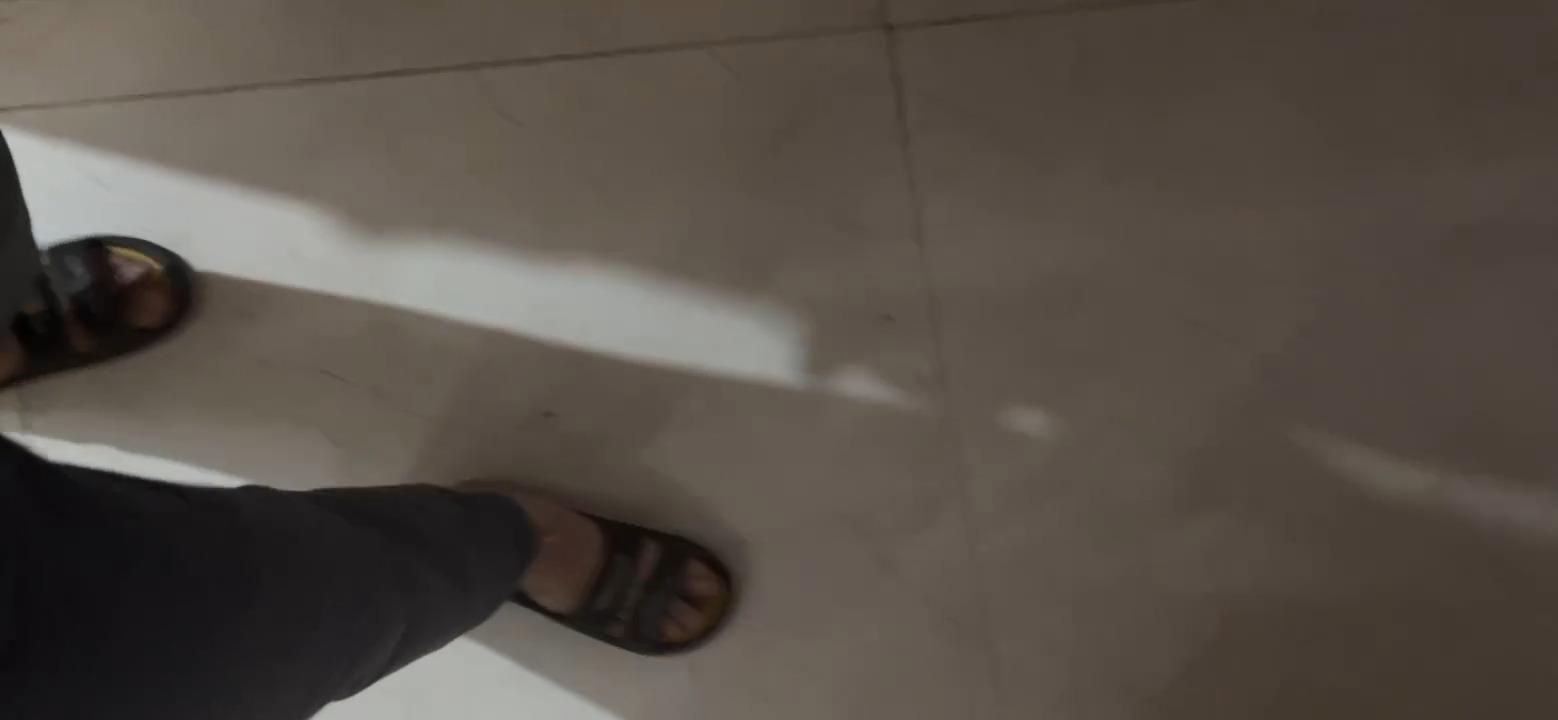no-boot: (459, 437, 736, 662), (9, 221, 196, 361)
